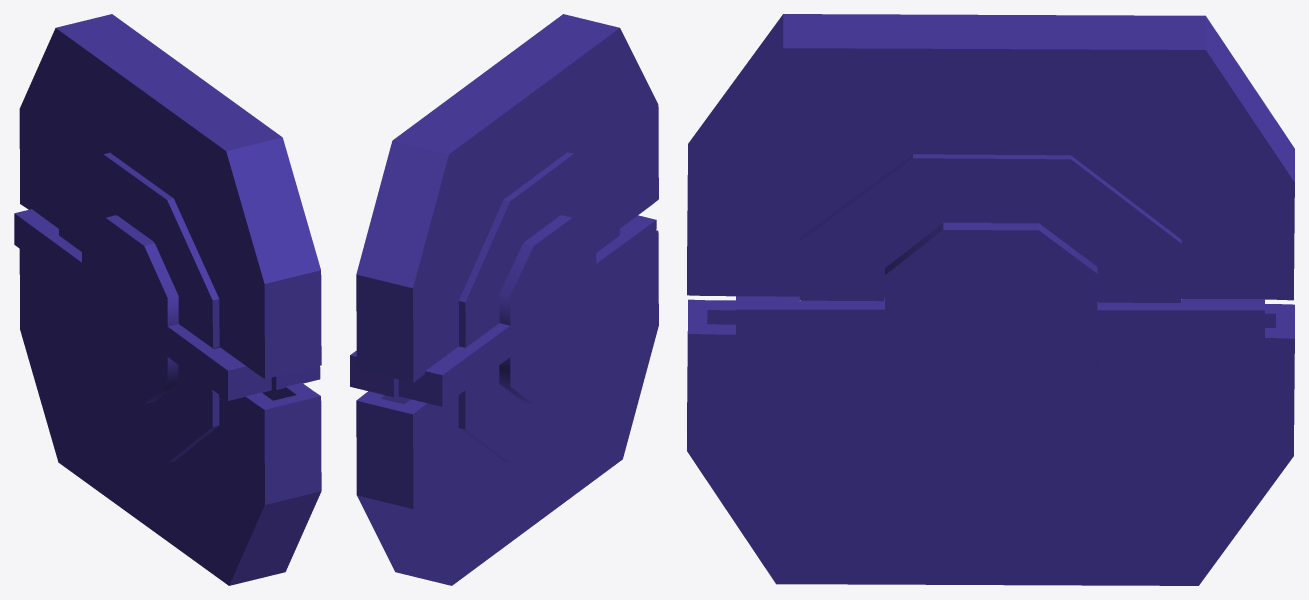
The model's file is Door_w_colormap.fbx.
3 renders of one model, left to right at view 1: azimuth 30°, elevation 25°; view 2: azimuth 150°, elevation 25°; view 3: azimuth 270°, elevation 25°, orthographic. The views are drawn at different scales.
Parts seen in each view (by area): view 1: polySurface270; view 2: polySurface270; view 3: polySurface270.
Part boxes in pixels (x1=…): polySurface270: x1=14, y1=14, x2=321, y2=585; polySurface270: x1=350, y1=14, x2=658, y2=585; polySurface270: x1=687, y1=14, x2=1294, y2=585.
Bounding box in the file's own units: 72.18 × 325 × 333.
